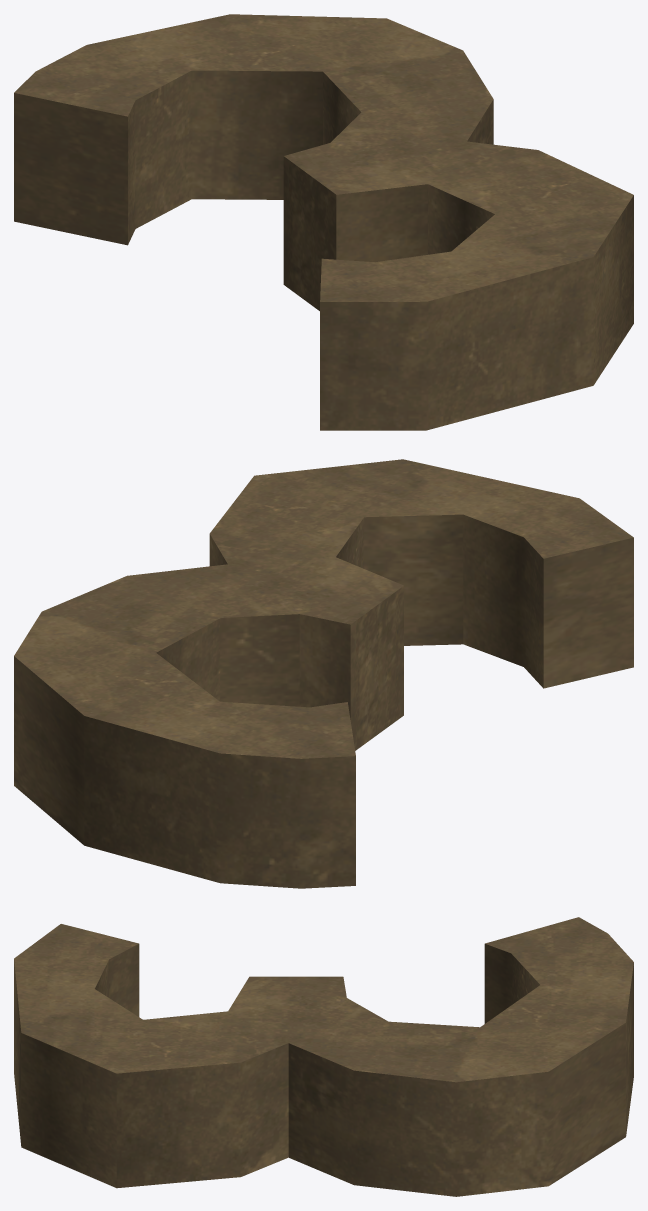
The model's file is p6_3d_txt_levenim_frnt_gold_3_LOD1.obj.
3 renders of one model, top to bottom at view 1: azimuth 30°, elevation 25°; view 2: azimuth 150°, elevation 25°; view 3: azimuth 270°, elevation 25°, orthographic. The views are drawn at different scales.
Visible parts, largest first — view 1: dub_gold_shiny_01; view 2: dub_gold_shiny_01; view 3: dub_gold_shiny_01.
Boxes of the visible parts, x1=… form: dub_gold_shiny_01: x1=14, y1=14, x2=633, y2=430; dub_gold_shiny_01: x1=14, y1=459, x2=633, y2=888; dub_gold_shiny_01: x1=14, y1=917, x2=633, y2=1196.
Bounding box in the file's own units: 59.8 × 19.34 × 94.83.
